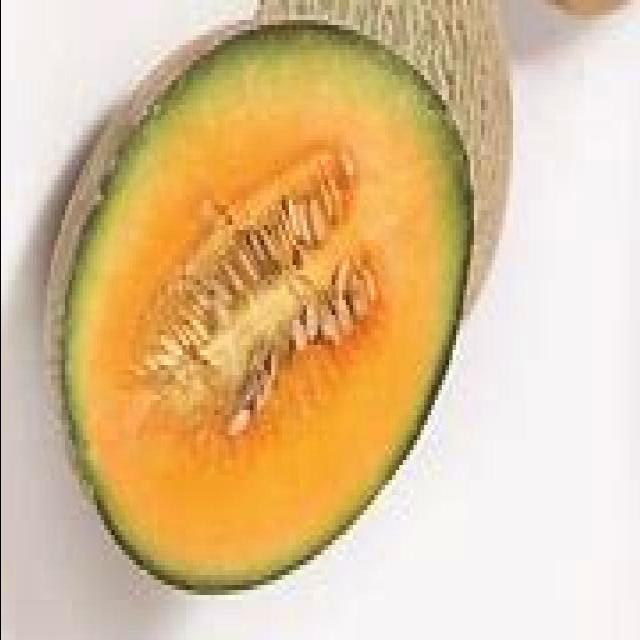Hami Melon: (42, 25, 477, 592)
